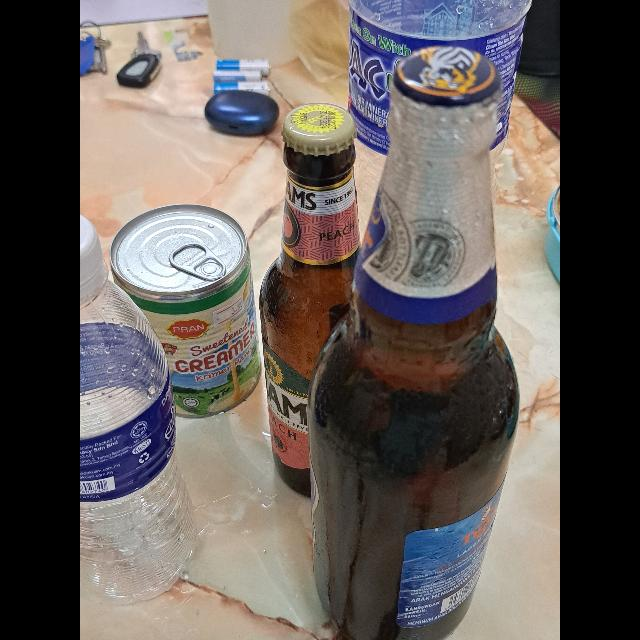aba de lata: (170, 242, 228, 280)
garrafa de vidro: (310, 48, 518, 640), (262, 104, 368, 498)
garrafa plástica: (80, 275, 202, 603), (350, 0, 530, 208)
lata: (111, 206, 259, 418)
tampa plástica: (80, 214, 102, 306)
